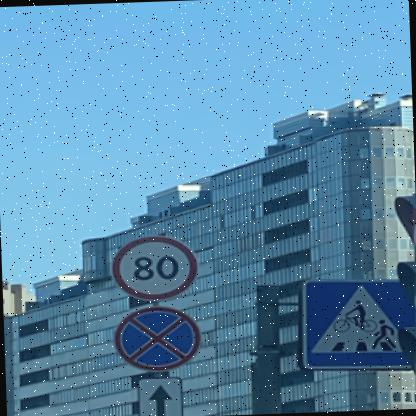crosswalk: (294, 272, 416, 372)
speedlimit: (109, 234, 197, 300)
trafficlight: (388, 182, 415, 392)
